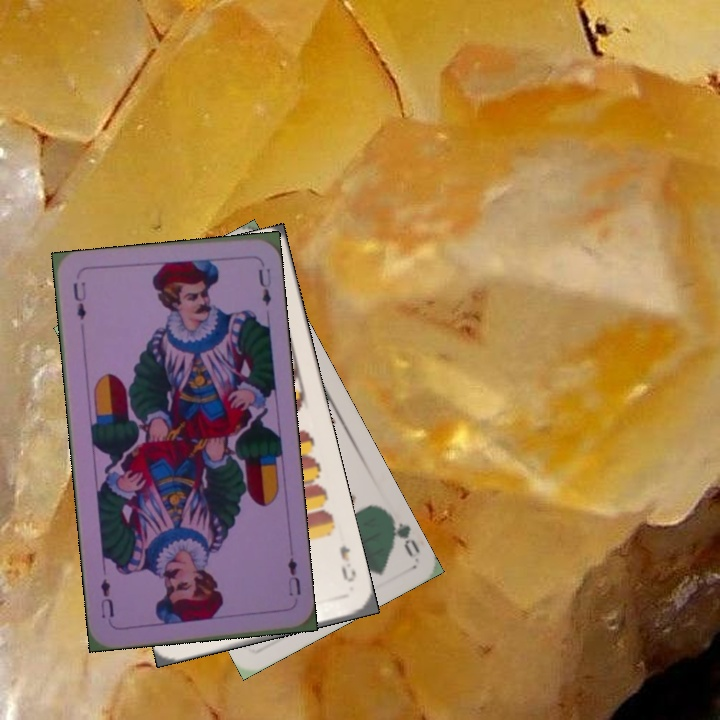E9: (335, 541, 359, 585)
EU: (283, 553, 303, 599), (69, 278, 89, 323)
GO: (381, 506, 423, 560)
